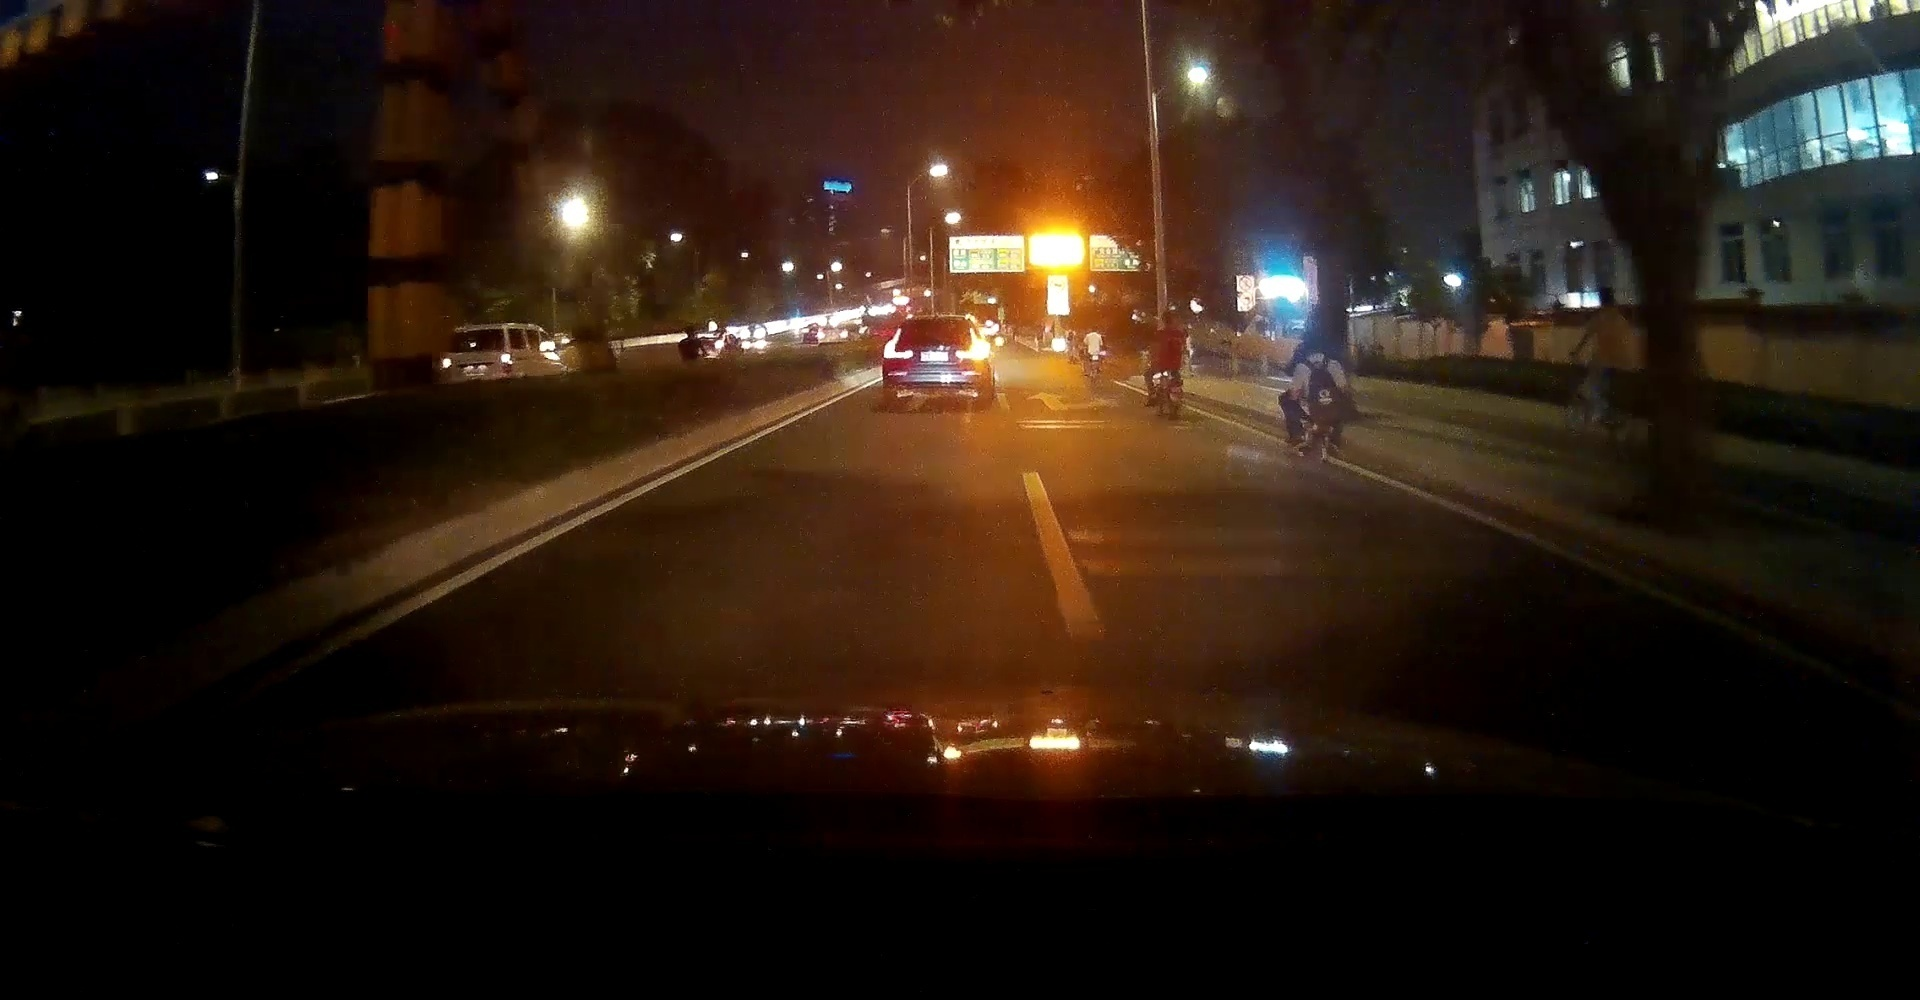L_light: (883, 327, 913, 358), (442, 357, 452, 371)
R_light: (955, 327, 987, 360), (499, 353, 513, 367)
T_light: (928, 320, 947, 326), (472, 330, 485, 334)
night-no: (438, 324, 516, 393)
night-right: (881, 313, 990, 409)
